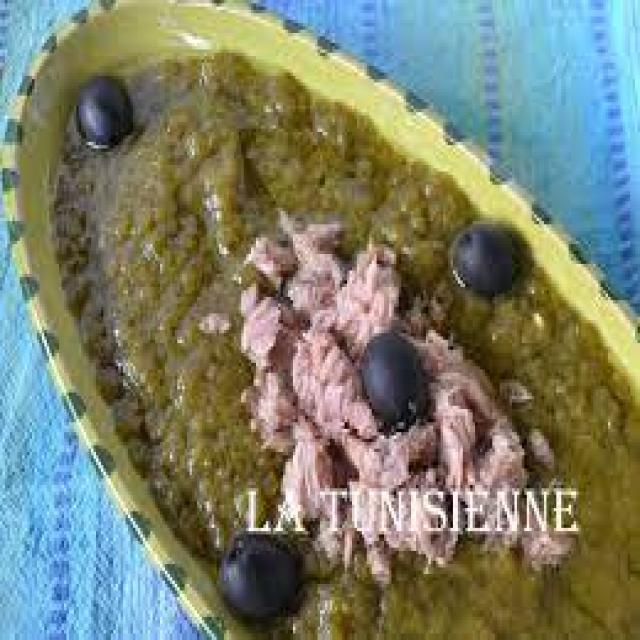Salade mechweya: (37, 12, 632, 625)
